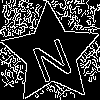N: (26, 29, 76, 84)
